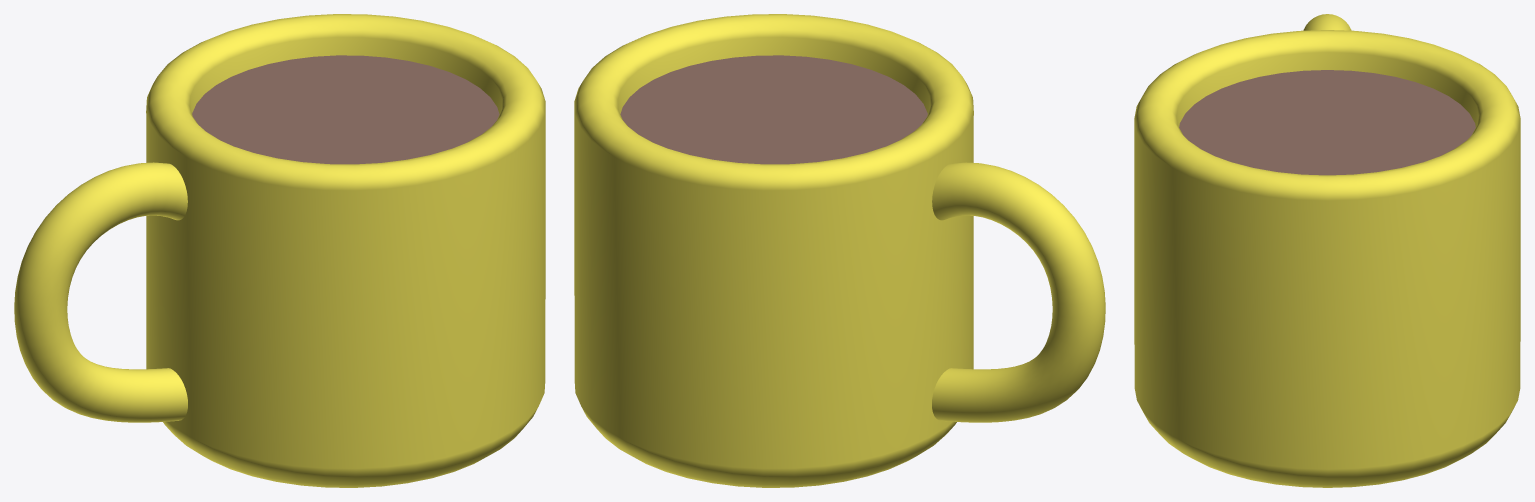
File: Isl_8_Big_Cup_1.fbx
The picture shows the model from 3 angles, left to right: view 1: azimuth 30°, elevation 25°; view 2: azimuth 150°, elevation 25°; view 3: azimuth 270°, elevation 25°; orthographic projection. The views are drawn at different scales.
Parts seen in each view (by area): view 1: Isl_8_Big_Cup_1; view 2: Isl_8_Big_Cup_1; view 3: Isl_8_Big_Cup_1.
Part boxes in pixels (bbox=[...]): Isl_8_Big_Cup_1: bbox=[14, 14, 545, 487]; Isl_8_Big_Cup_1: bbox=[574, 14, 1105, 487]; Isl_8_Big_Cup_1: bbox=[1134, 14, 1520, 487].
Size of the model in its own units: 136 by 85.17 by 93.82.
